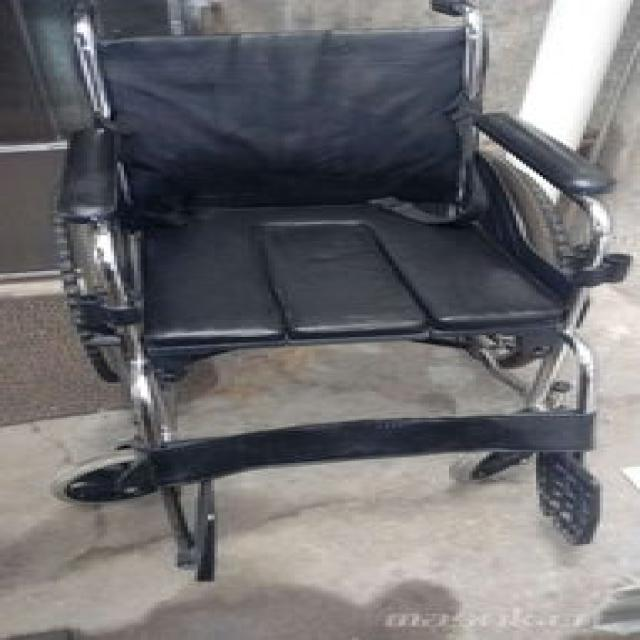wheelchair: (47, 0, 603, 589)
